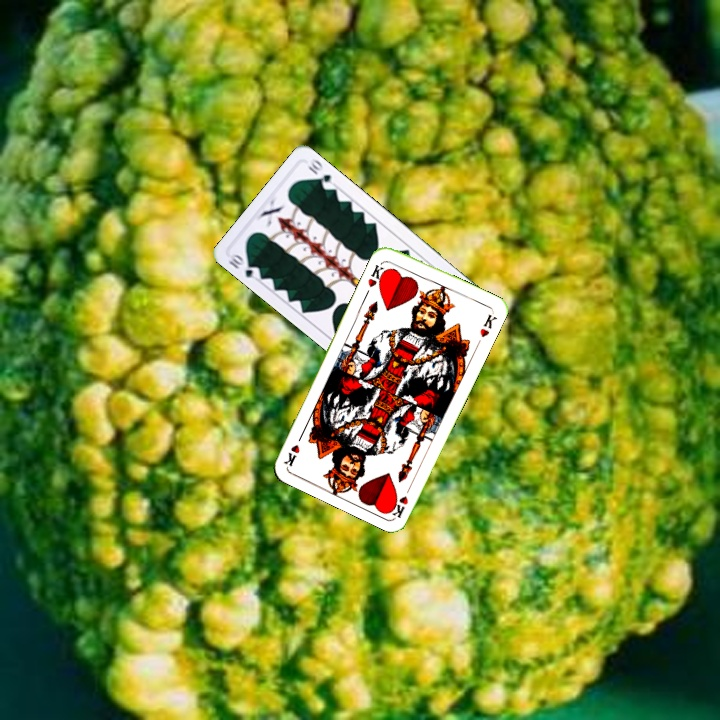G10: (224, 250, 264, 280)
HK: (386, 480, 415, 520), (364, 260, 390, 290)
